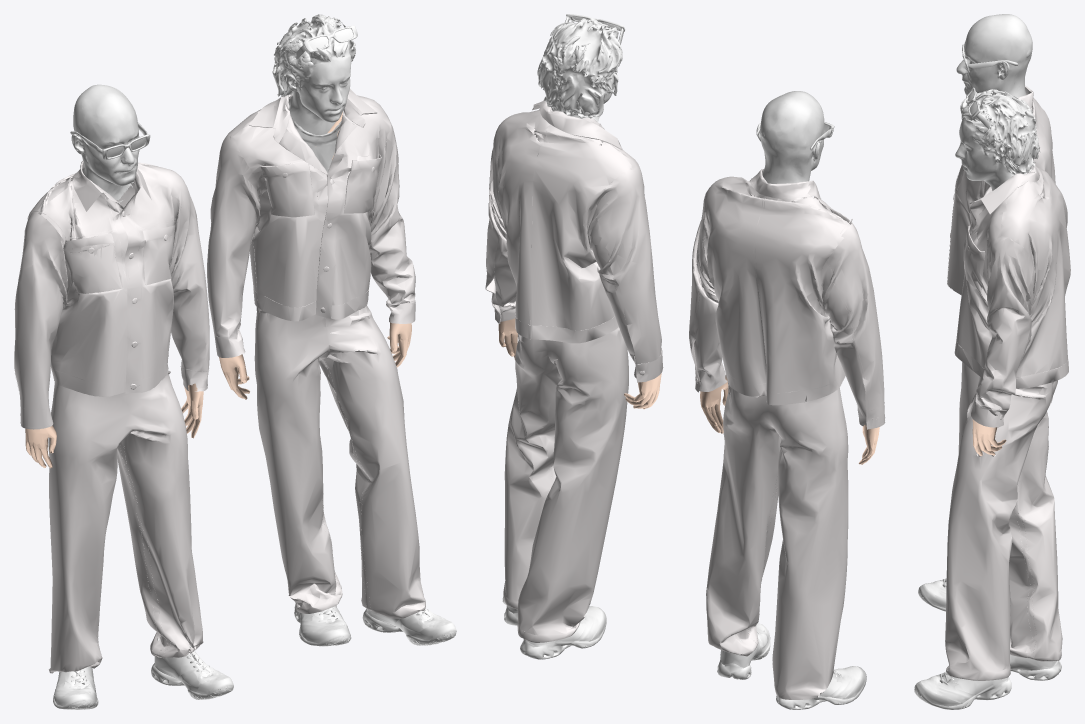
Rendered from compressed_avatars.glb.
3 renders of one model, left to right at view 1: azimuth 30°, elevation 25°; view 2: azimuth 150°, elevation 25°; view 3: azimuth 270°, elevation 25°, orthographic. The views are drawn at different scales.
Parts seen in each view (by area): view 1: Matt-Mat, Derek-Mat, Matt-Matt (×2), Derek-Derek, Derek-lambert2SG, Matt-lambert2SG, Derek-Mat.1, Matt-Mat.1, Matt-wire_154215229, Derek-wire_154215229.1; view 2: Derek-Mat, Matt-Mat, Matt-Matt, Derek-Derek, Derek-lambert2SG, Matt-lambert2SG, Derek-Mat.1, Matt-Mat.1; view 3: Matt-Mat, Matt-Matt, Derek-Derek, Derek-Mat, Matt-lambert2SG, Matt-Mat.1, Derek-lambert2SG, Matt-wire_154215229, Derek-wire_154215229.1.
Part boxes in pixels (x1,y1,x2,y2): Matt-Mat: (207, 89, 425, 618); Derek-Mat: (14, 161, 209, 673); Matt-Matt (×2): (272, 14, 356, 172); Derek-Derek: (71, 84, 139, 202); Derek-lambert2SG: (53, 637, 233, 709); Matt-lambert2SG: (294, 604, 456, 646); Derek-Mat.1: (25, 383, 203, 468); Matt-Mat.1: (219, 112, 411, 399); Matt-wire_154215229: (296, 25, 357, 59); Derek-wire_154215229.1: (70, 122, 150, 159); Derek-Mat: (689, 169, 885, 699); Matt-Mat: (485, 100, 663, 642); Matt-Matt: (537, 18, 622, 121); Derek-Derek: (756, 91, 824, 183); Derek-lambert2SG: (717, 623, 866, 709); Matt-lambert2SG: (502, 596, 606, 659); Derek-Mat.1: (700, 375, 879, 634); Matt-Mat.1: (498, 318, 661, 409); Matt-Mat: (945, 165, 1070, 680); Matt-Matt: (955, 89, 1040, 190); Derek-Derek: (956, 14, 1032, 98); Derek-Mat: (947, 85, 1055, 453); Matt-lambert2SG: (914, 654, 1061, 709); Matt-Mat.1: (972, 419, 1006, 455); Derek-lambert2SG: (918, 578, 946, 611); Matt-wire_154215229: (966, 87, 991, 128); Derek-wire_154215229.1: (962, 44, 1017, 72).
Bounding box in the file's own units: 121 × 180 × 44.46.
